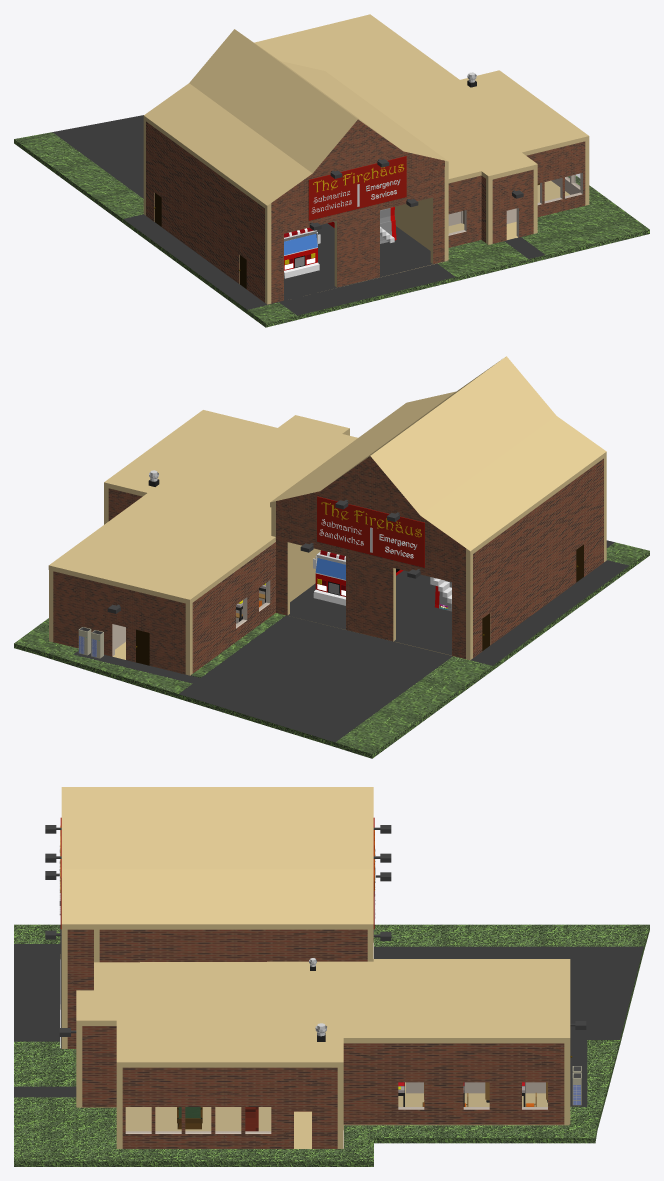
Rendered from Firehouse.glb.
3 views of the same model, one above another, from view 1: azimuth 30°, elevation 25°; view 2: azimuth 150°, elevation 25°; view 3: azimuth 270°, elevation 25° (orthographic). The views are drawn at different scales.
Visible parts, largest first — view 1: Cube, Roof, Ground, Roof2, Floor, Sign, Truck2, Windows, Truck0, Locked Doors; view 2: Cube, Ground, Roof, Roof2, Floor, Sign.001, Truck0, Locked Doors, VRF; view 3: Cube, Roof2, Roof, Ground, Windows, Floor, Lights Ext, Cube.002.
Part boxes in pixels (x1,y1,x2,y2): Cube: [143, 120, 589, 304]; Roof: [143, 29, 448, 209]; Ground: [14, 115, 649, 327]; Roof2: [254, 14, 589, 183]; Floor: [145, 180, 569, 304]; Sign: [308, 156, 406, 220]; Truck2: [284, 227, 320, 278]; Windows: [449, 173, 581, 234]; Truck0: [328, 207, 396, 243]; Locked Doors: [154, 193, 464, 288]; Cube: [49, 433, 606, 675]; Ground: [14, 540, 649, 758]; Roof: [270, 356, 606, 555]; Roof2: [48, 410, 357, 604]; Floor: [113, 570, 583, 675]; Sign.001: [317, 496, 424, 567]; Truck0: [313, 550, 403, 605]; Locked Doors: [136, 544, 583, 665]; VRF: [78, 627, 103, 658]; Cube: [61, 929, 570, 1148]; Roof2: [76, 959, 570, 1067]; Roof: [61, 787, 373, 929]; Ground: [14, 924, 649, 1166]; Windows: [126, 1083, 547, 1132]; Floor: [60, 937, 568, 1148]; Lights Ext: [45, 825, 586, 1036]; Cube.002: [406, 1082, 545, 1093].
Size of the model in its own units: 28.54 by 11.88 by 32.39.
Materials: 68 (3 with a texture image).
